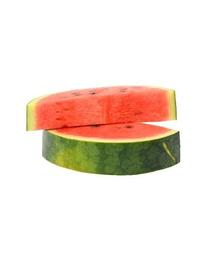watermelon: (25, 83, 181, 175)
